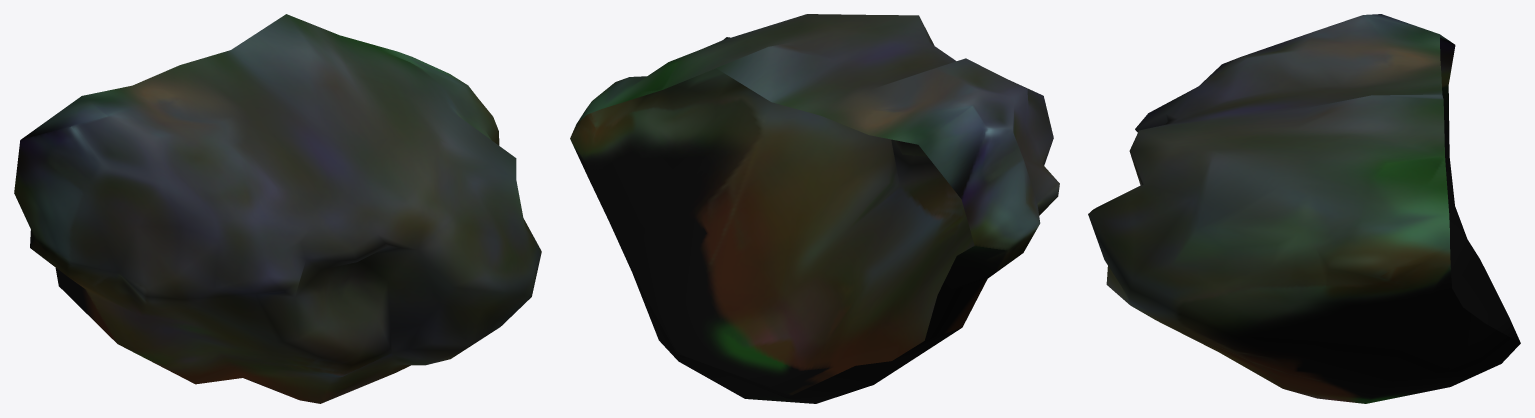
Rendered from rock4.fbx.
3 views of the same model, side by side, from view 1: azimuth 30°, elevation 25°; view 2: azimuth 150°, elevation 25°; view 3: azimuth 270°, elevation 25° (orthographic). The views are drawn at different scales.
Visible parts, largest first — view 1: Sphere.003; view 2: Sphere.003; view 3: Sphere.003.
Boxes of the visible parts, x1,y1,x2,y2 form: Sphere.003: [14, 14, 541, 403]; Sphere.003: [570, 14, 1059, 403]; Sphere.003: [1088, 14, 1520, 403].
Bounding box in the file's own units: 4575 × 3382 × 4217.
